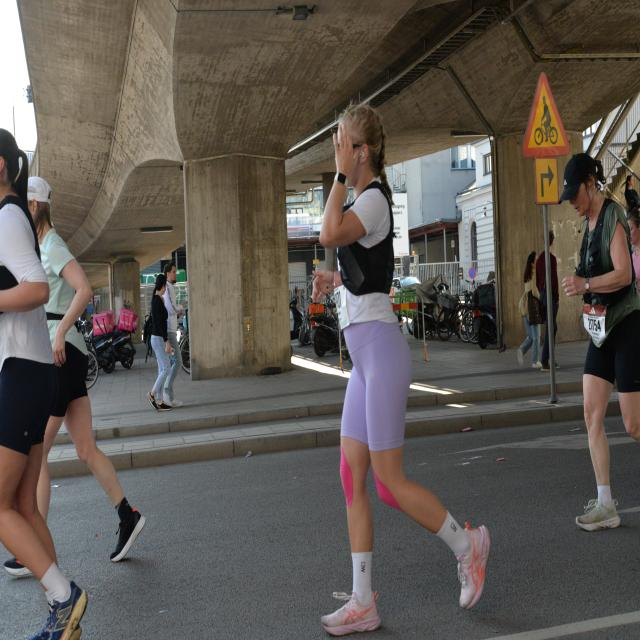runner-detect: (297, 72, 499, 634), (561, 144, 624, 546)
